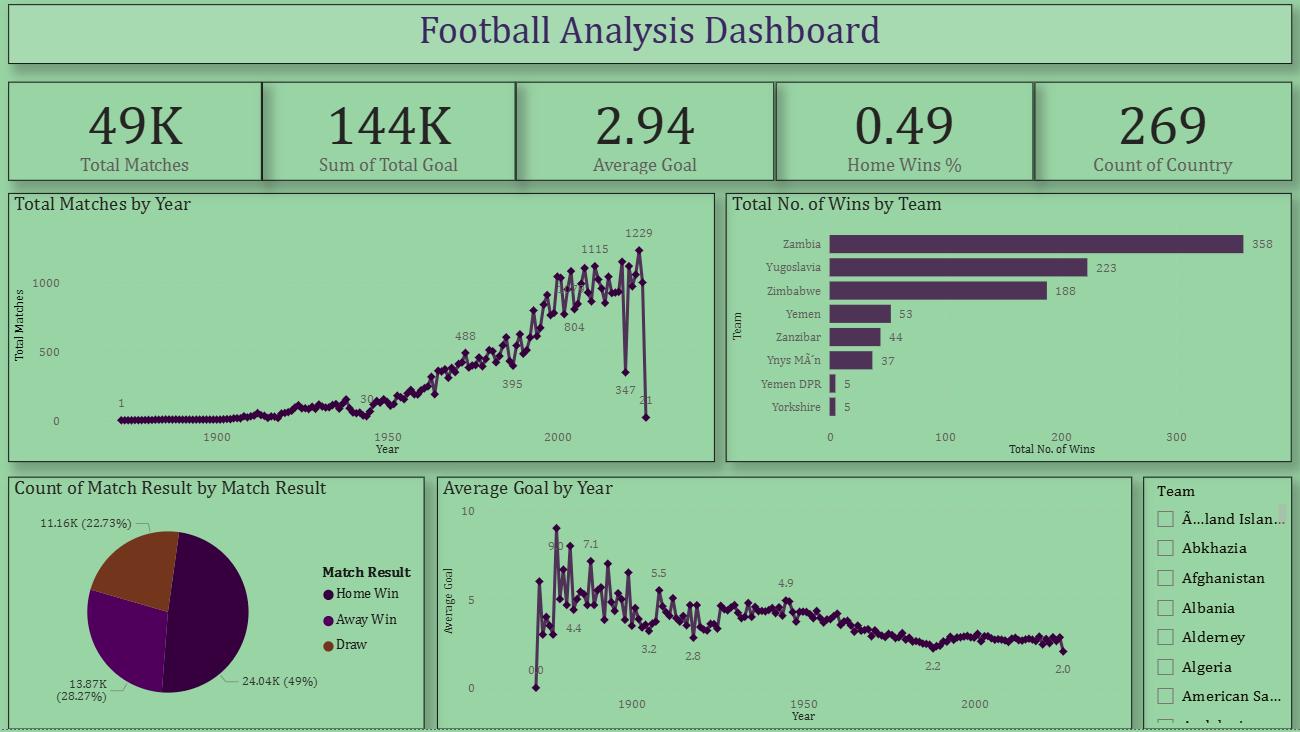

The dashboard page shown, as its layout file describes it:
{"tool":"powerbi","page":{"name":"Dashboard","canvas":[1280,720],"ordinal":7},"visuals":[{"type":"textbox","box":[11,11,1255.8,58.7],"z":0},{"type":"card","fields":{"Values":["results.Total_matches"]},"box":[11,86.8,248.2,96.6],"z":1000},{"type":"card","fields":{"Values":["Sum(results.total goal)"]},"box":[259.2,86.8,248.2,96.6],"z":2000},{"type":"card","fields":{"Values":["results.Avg_goal"]},"box":[507.5,86.8,253.1,96.6],"z":3000},{"type":"card","fields":{"Values":["results.% Home Wins"]},"box":[761.8,86.8,251.9,96.6],"z":4000},{"type":"card","fields":{"Values":["Count(results.country)"]},"box":[1015,86.8,251.9,96.6],"z":5000},{"type":"pieChart","fields":{"Category":["results.Match Result"],"Y":["CountNonNull(results.Match Result)"]},"box":[11,473.2,407.2,247],"z":6000},{"type":"lineChart","fields":{"Category":["results.year"],"Y":["results.Total_matches"]},"box":[11,195.7,690.9,262.9],"z":7000},{"type":"lineChart","fields":{"Category":["results.year"],"Y":["results.Avg_goal"]},"box":[430.4,473.2,679.9,247],"z":8000},{"type":"clusteredBarChart","fields":{"Y":["results.Total_Win"],"Category":["results.Winner"]},"box":[712.9,195.7,553.9,262.9],"z":9000},{"type":"slicer","fields":{"Values":["results.Winner"]},"box":[1121.3,473.2,145.5,247],"z":9001}]}

Visuals, with their boxes in screenshot pixels (x1, y1, x2, y2), scaled from the page's 1280x720 canvas onto the 1300x732 screenshot:
textbox: 11, 11, 1287, 71
card - results.Total_matches: 11, 88, 263, 186
card - Sum(results.total goal): 263, 88, 515, 186
card - results.Avg_goal: 515, 88, 772, 186
card - results.% Home Wins: 774, 88, 1030, 186
card - Count(results.country): 1031, 88, 1287, 186
pieChart - results.Match Result x CountNonNull(results.Match Result): 11, 481, 425, 731
lineChart - results.year x results.Total_matches: 11, 199, 713, 466
lineChart - results.year x results.Avg_goal: 437, 481, 1128, 731
clusteredBarChart - results.Total_Win x results.Winner: 724, 199, 1287, 466
slicer - results.Winner: 1139, 481, 1287, 731
